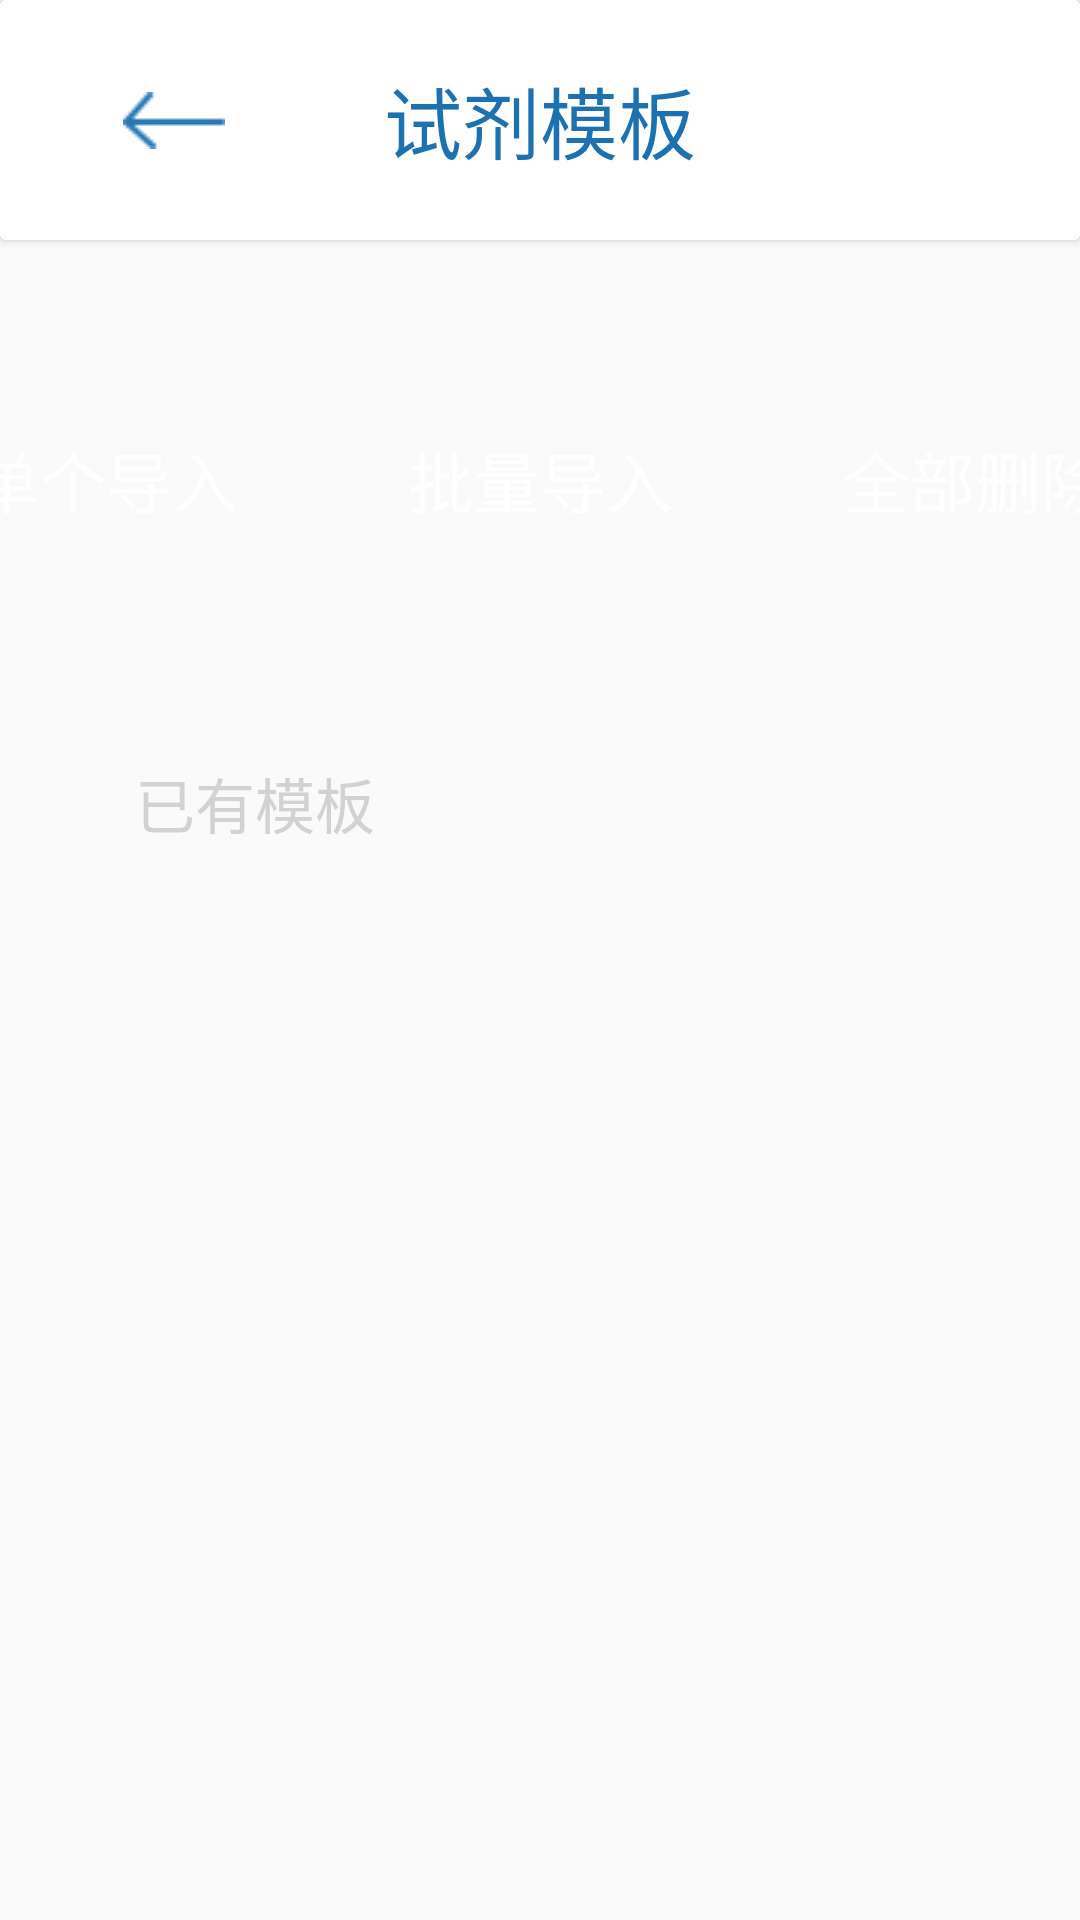

Locate icon controls on the screen. Image size 1080 x 1920, boxes as (x1, y1, x2, y2).
back style: (123, 92, 225, 149)
